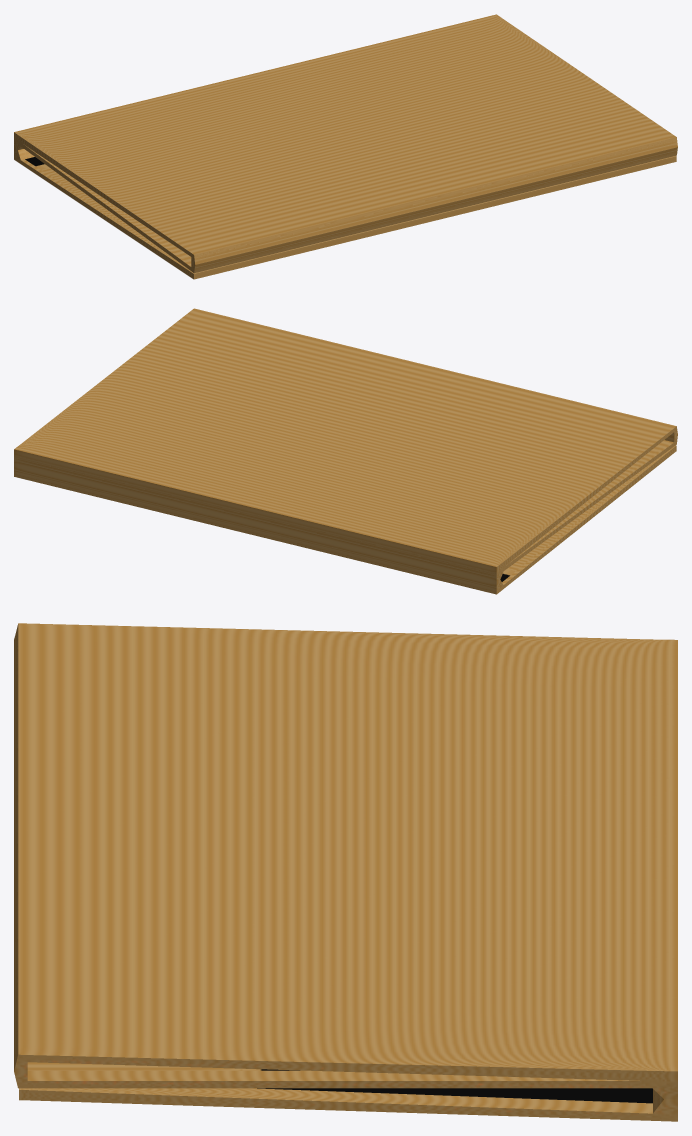
The model's file is prop-mat.glb.
3 renders of one model, top to bottom at view 1: azimuth 30°, elevation 25°; view 2: azimuth 150°, elevation 25°; view 3: azimuth 270°, elevation 25°, orthographic. The views are drawn at different scales.
Parts seen in each view (by area): view 1: bake.010; view 2: bake.010; view 3: bake.010.
Boxes of the visible parts, bbox=[...] form: bake.010: bbox=[14, 14, 677, 279]; bake.010: bbox=[14, 308, 677, 594]; bake.010: bbox=[14, 623, 677, 1121].
Bounding box in the file's own units: 1.42 × 0.1024 × 0.9206.
1 material, 1 textured.
